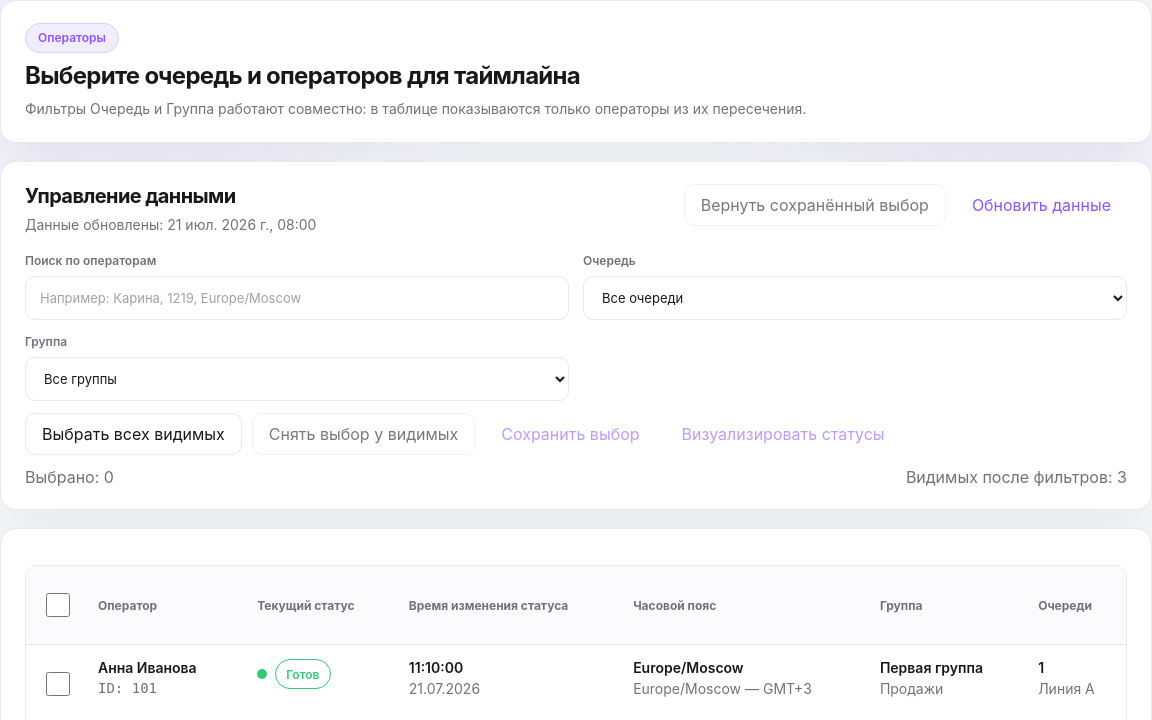
Test: OperatorsPage › supports header checkbox selection of all visible rows
Click the checkbox named "Выбрать всех видимых операторов" at (58, 605), box [46,583,70,627]
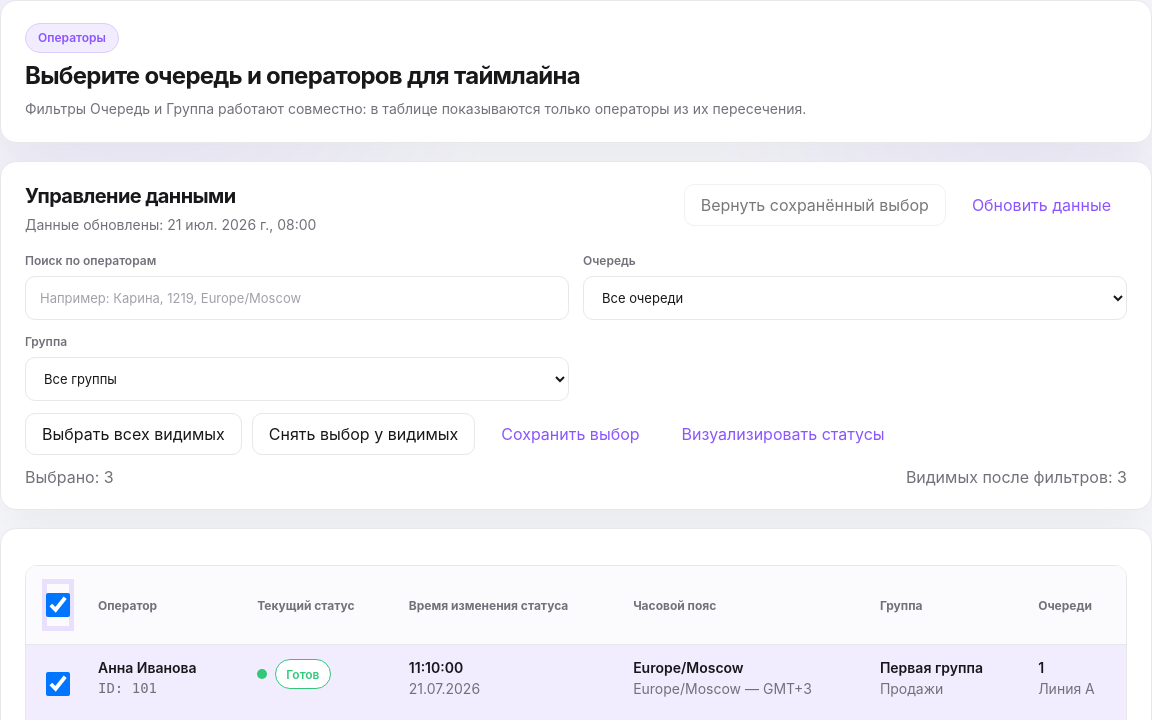
Expected: the text "Выбрано: 3" is shown, [25,467,114,487]
